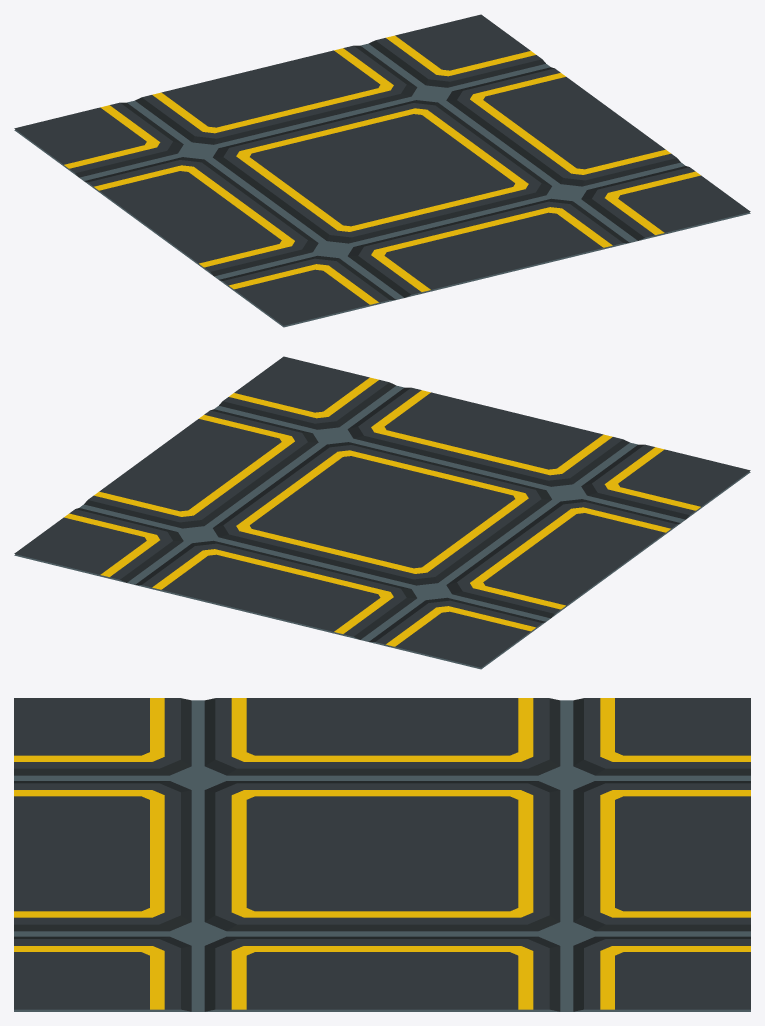
The model's file is Floor_type_C_031.glb.
The picture shows the model from 3 angles, top to bottom: view 1: azimuth 30°, elevation 25°; view 2: azimuth 150°, elevation 25°; view 3: azimuth 270°, elevation 25°; orthographic projection. The views are drawn at different scales.
Parts seen in each view (by area): view 1: Floor_type_C_031; view 2: Floor_type_C_031; view 3: Floor_type_C_031.
Boxes of the visible parts, x1,y1,x2,y2 form: Floor_type_C_031: [14, 14, 750, 327]; Floor_type_C_031: [14, 356, 750, 669]; Floor_type_C_031: [14, 698, 750, 1011].
Size of the model in its own units: 4 by 0.0134 by 4.
1 material, 1 textured.
